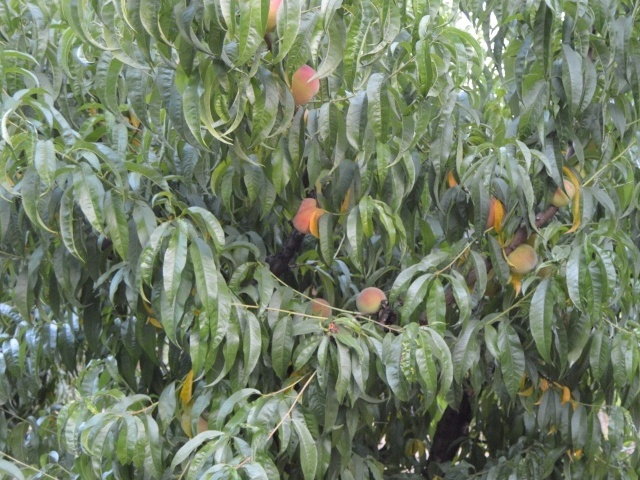peach: (284, 61, 323, 106), (290, 195, 323, 236), (505, 239, 540, 277), (354, 283, 388, 318), (546, 175, 578, 209), (304, 296, 335, 324)
